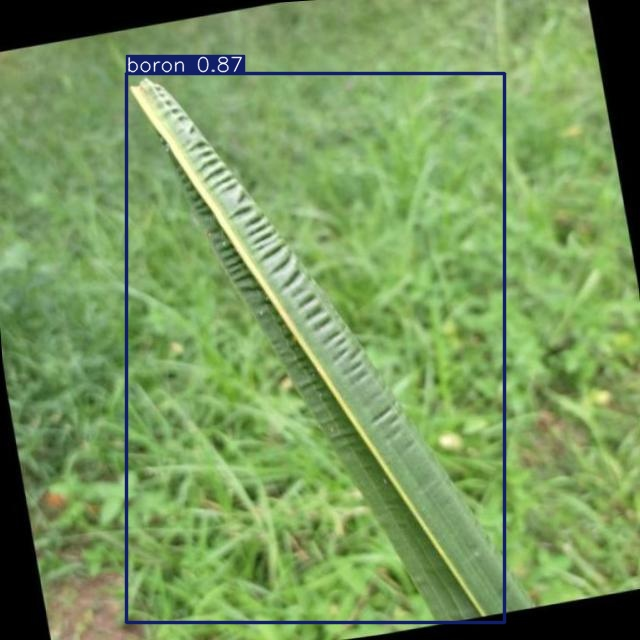nitrogen: (127, 73, 505, 623)
